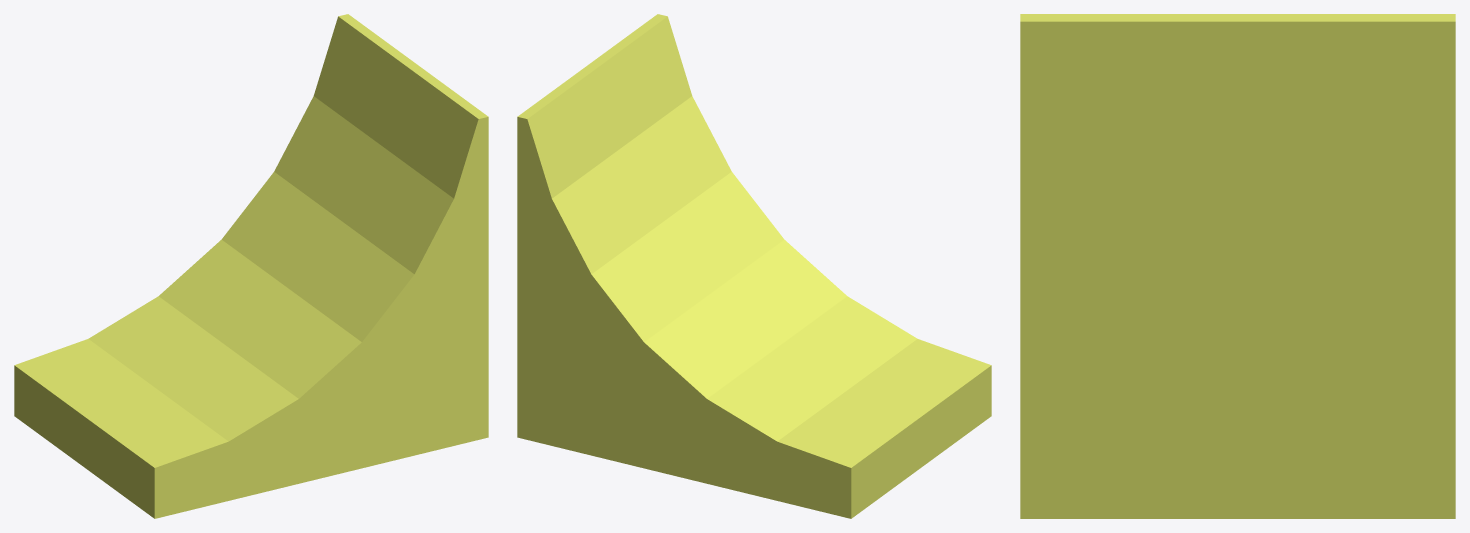
File: Curved Obstacle.fbx
3 views of the same model, side by side, from view 1: azimuth 30°, elevation 25°; view 2: azimuth 150°, elevation 25°; view 3: azimuth 270°, elevation 25° (orthographic). The views are drawn at different scales.
Visible parts, largest first — view 1: Cube.002; view 2: Cube.002; view 3: Cube.002.
Part boxes in pixels (x1,y1,x2,y2): Cube.002: (14, 14, 488, 518); Cube.002: (517, 14, 991, 518); Cube.002: (1020, 14, 1455, 518).
Size of the model in its own units: 7.91 by 7.27 by 5.76.
